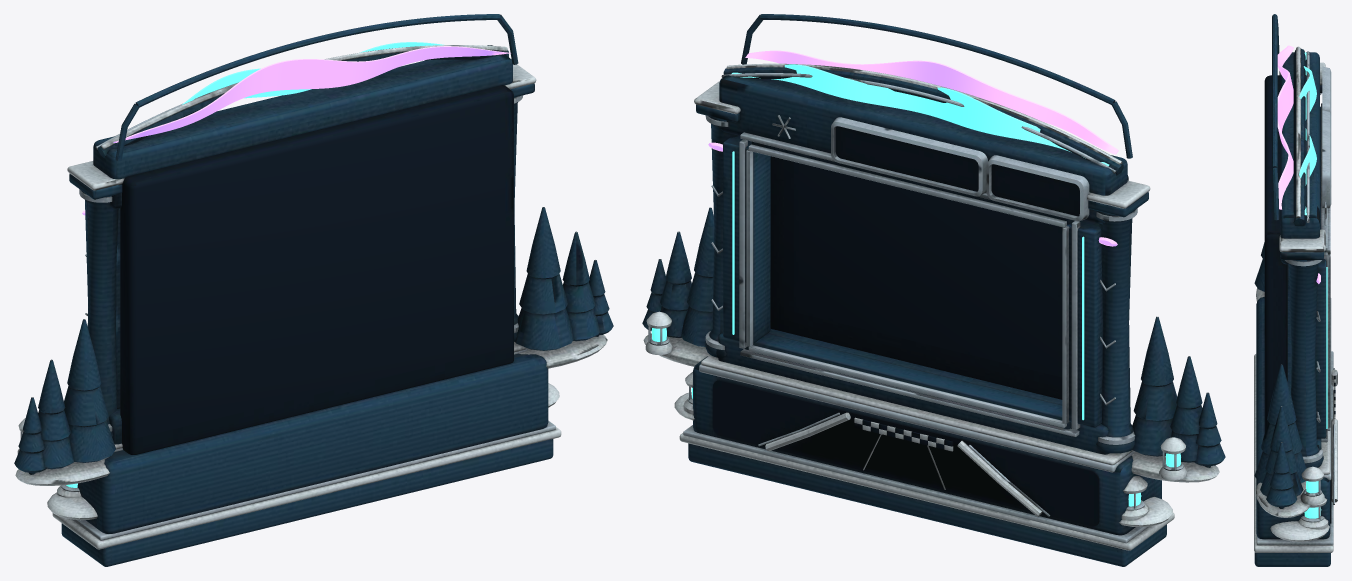
3 renders of one model, left to right at view 1: azimuth 30°, elevation 25°; view 2: azimuth 150°, elevation 25°; view 3: azimuth 270°, elevation 25°, orthographic. The views are drawn at different scales.
Parts seen in each view (by area): view 1: Night, Glacier_blue, Packed_snow, Violet_aurora_glow, Silver_trim, Emerald_aurora_glow; view 2: Glacier_blue, Night, Silver_trim, Packed_snow, Emerald_aurora_glow, Violet_aurora_glow; view 3: Glacier_blue, Packed_snow, Night, Silver_trim, Emerald_aurora_glow, Violet_aurora_glow.
Boxes of the visible parts, x1=… form: Night: x1=120, y1=85, x2=513, y2=454; Glacier_blue: x1=14, y1=14, x2=613, y2=566; Packed_snow: x1=15, y1=45, x2=607, y2=549; Violet_aurora_glow: x1=82, y1=46, x2=510, y2=215; Silver_trim: x1=20, y1=82, x2=555, y2=540; Emerald_aurora_glow: x1=66, y1=42, x2=443, y2=487; Glacier_blue: x1=642, y1=14, x2=1225, y2=566; Night: x1=712, y1=126, x2=1128, y2=526; Silver_trim: x1=648, y1=73, x2=1183, y2=543; Packed_snow: x1=643, y1=63, x2=1219, y2=550; Emerald_aurora_glow: x1=651, y1=64, x2=1180, y2=506; Violet_aurora_glow: x1=708, y1=50, x2=1118, y2=246; Glacier_blue: x1=1254, y1=14, x2=1330, y2=566; Packed_snow: x1=1254, y1=46, x2=1337, y2=552; Night: x1=1264, y1=75, x2=1335, y2=523; Silver_trim: x1=1256, y1=51, x2=1334, y2=545; Emerald_aurora_glow: x1=1299, y1=52, x2=1327, y2=518; Violet_aurora_glow: x1=1277, y1=45, x2=1320, y2=283.
Bounding box in the file's own units: 12.74 × 9.6 × 1.82.
Materials: 6 (4 with a texture image).
